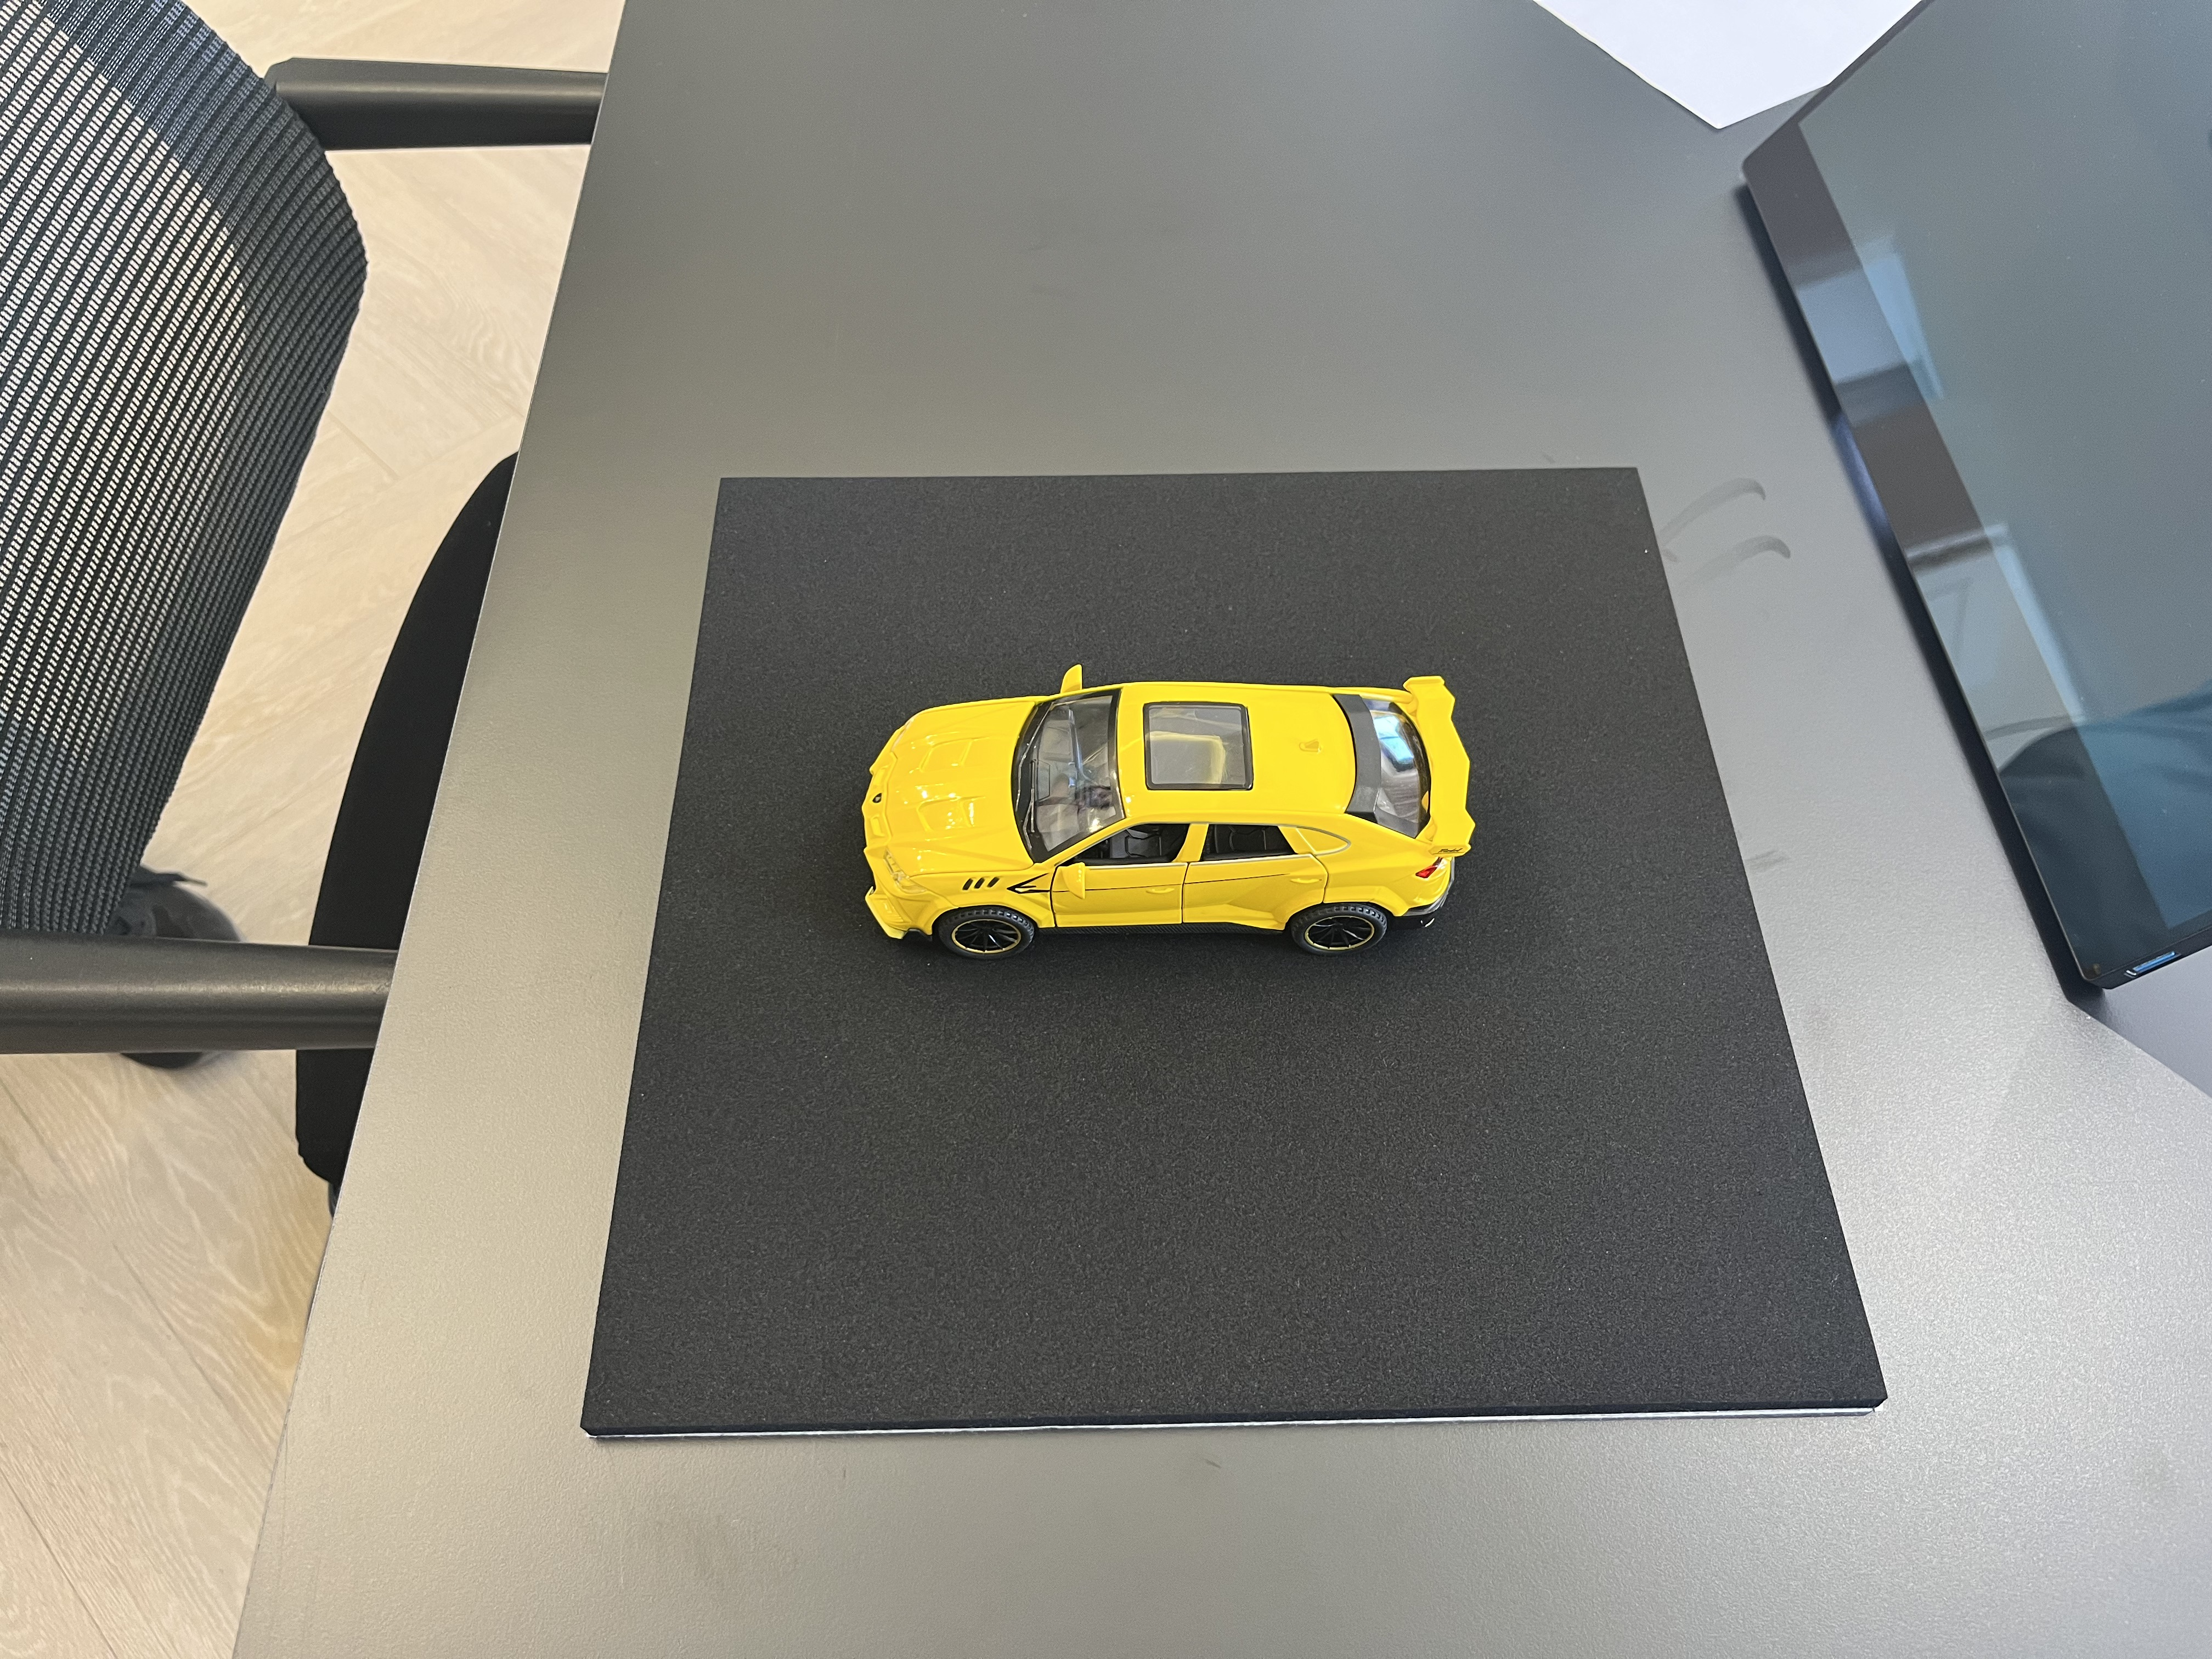lambo: (855, 659, 1470, 957)
